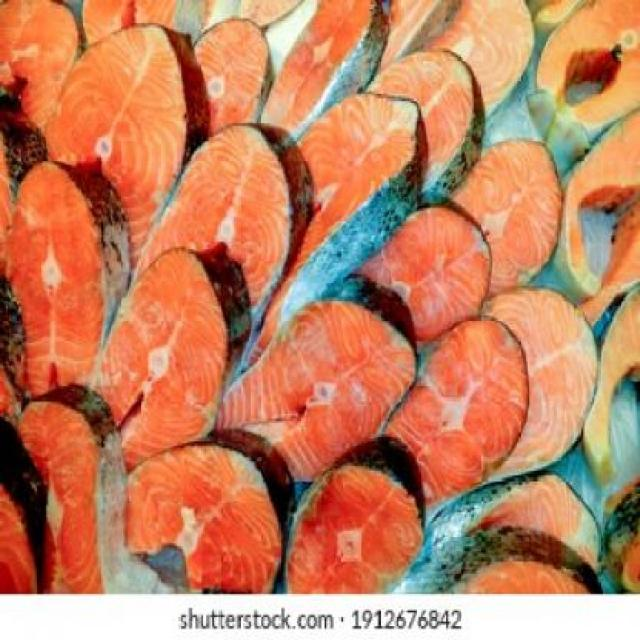salmon: (35, 18, 196, 346), (134, 108, 301, 423), (243, 249, 424, 517), (348, 282, 534, 533), (83, 217, 238, 502), (275, 345, 430, 630), (117, 349, 271, 635), (14, 146, 117, 412), (360, 183, 496, 380)
